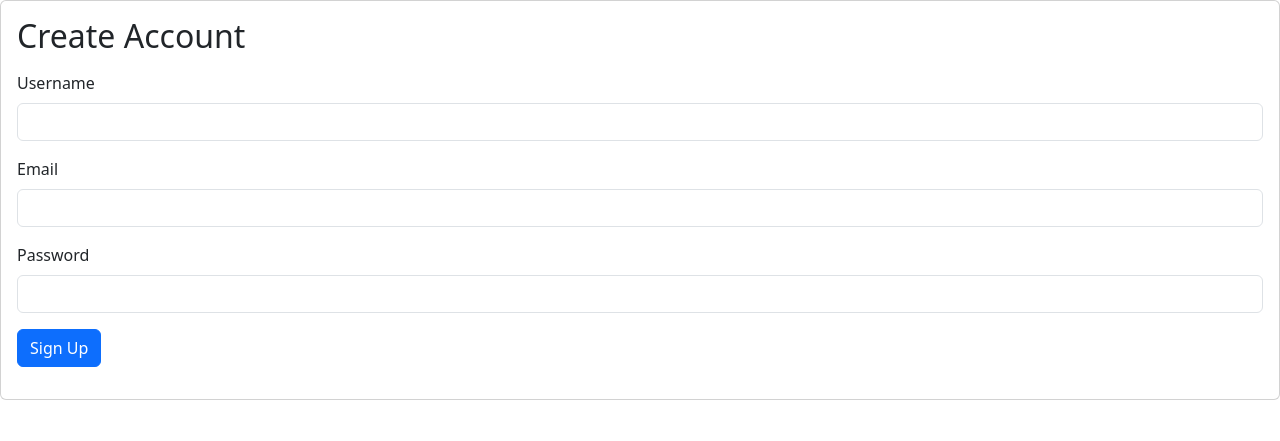
Test case: TCID-02: asks for an email when it is missing
Type "ritam" into the field labelled "Username". click: (640, 122)
box: x1=17 y1=103 x2=1263 y2=141
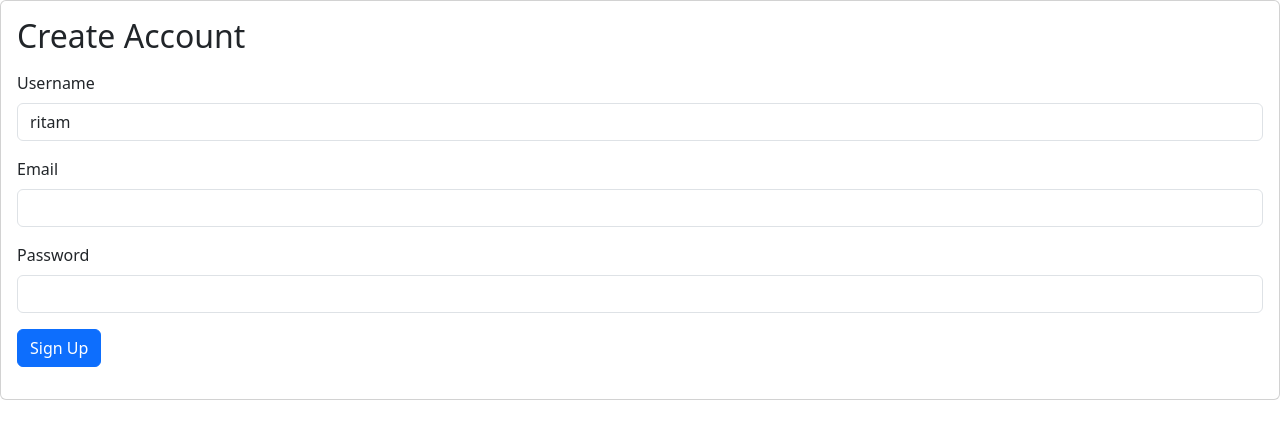
Type "test-password-123" into the password field labelled "Password". click: (640, 294)
box: x1=17 y1=275 x2=1263 y2=313
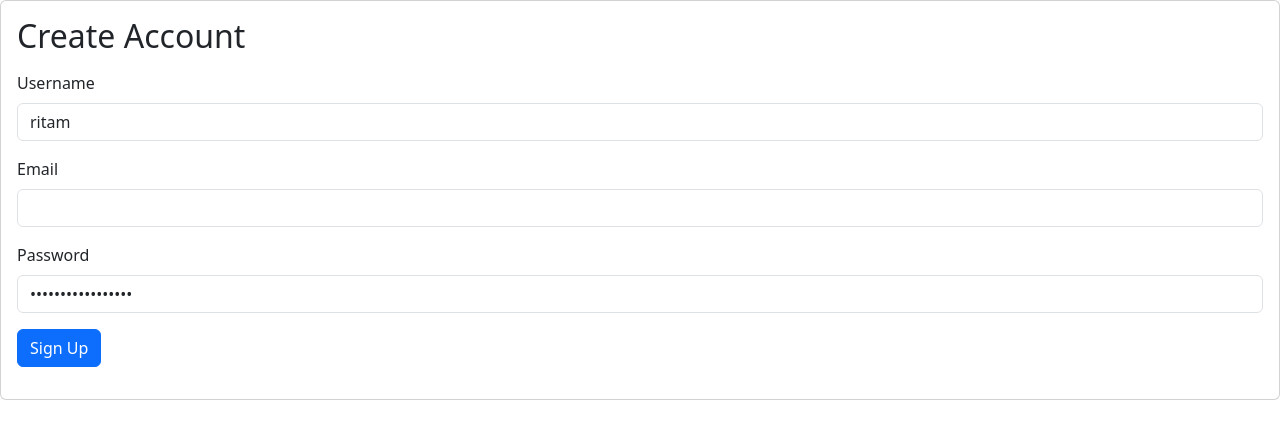
Click the button "Sign Up". click: (59, 348)
box: x1=17 y1=329 x2=101 y2=367
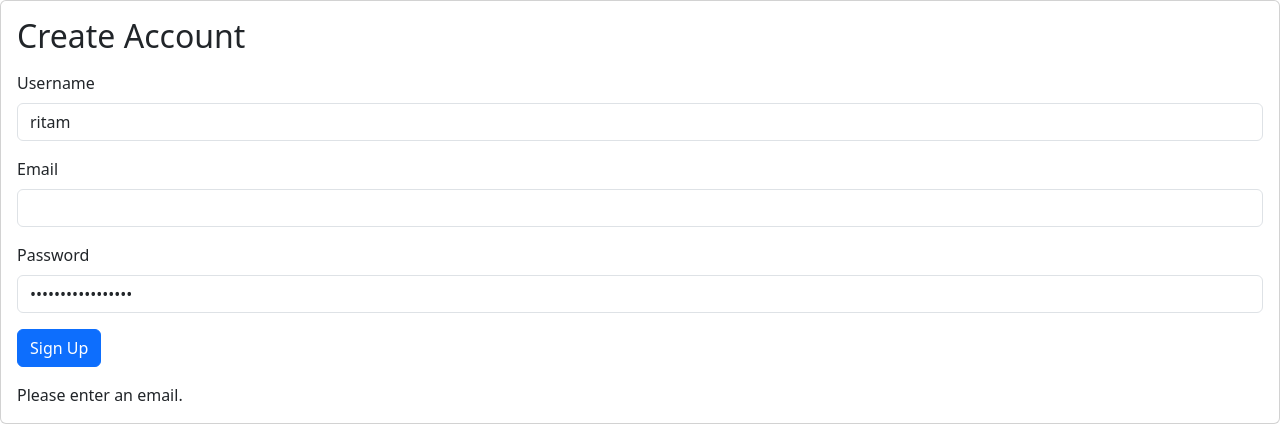
expect the text "Please enter an email." is shown: met, box x1=17 y1=384 x2=183 y2=406
